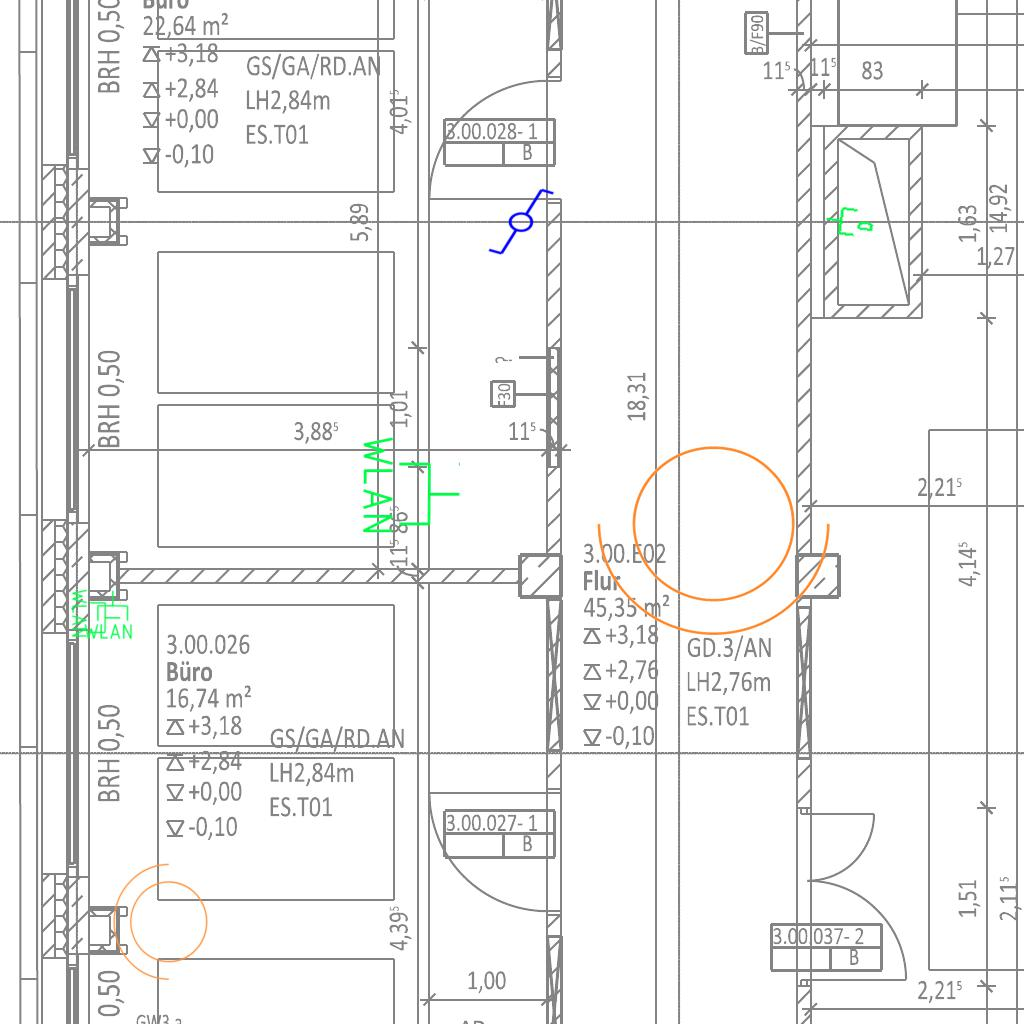Datenanschluss_einfach: (822, 200, 878, 242)
Scheinwerfer_fuer_Alarmbeleuchtung: (588, 421, 852, 646), (108, 859, 220, 991)
WLAN: (359, 432, 463, 537), (70, 587, 122, 639), (82, 589, 134, 641)
Wechselschalter: (478, 185, 556, 257)
